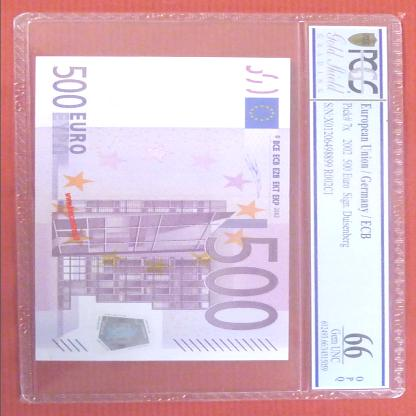euro_banknote: (11, 82, 316, 338)
